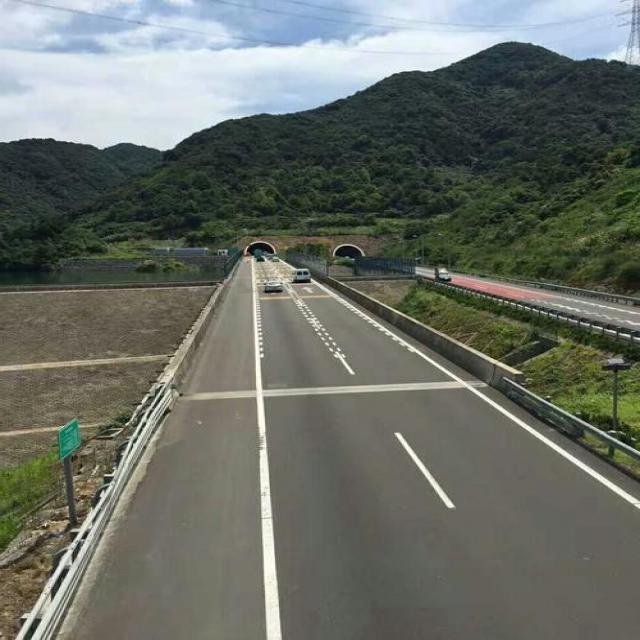point: (239, 238, 277, 264)
